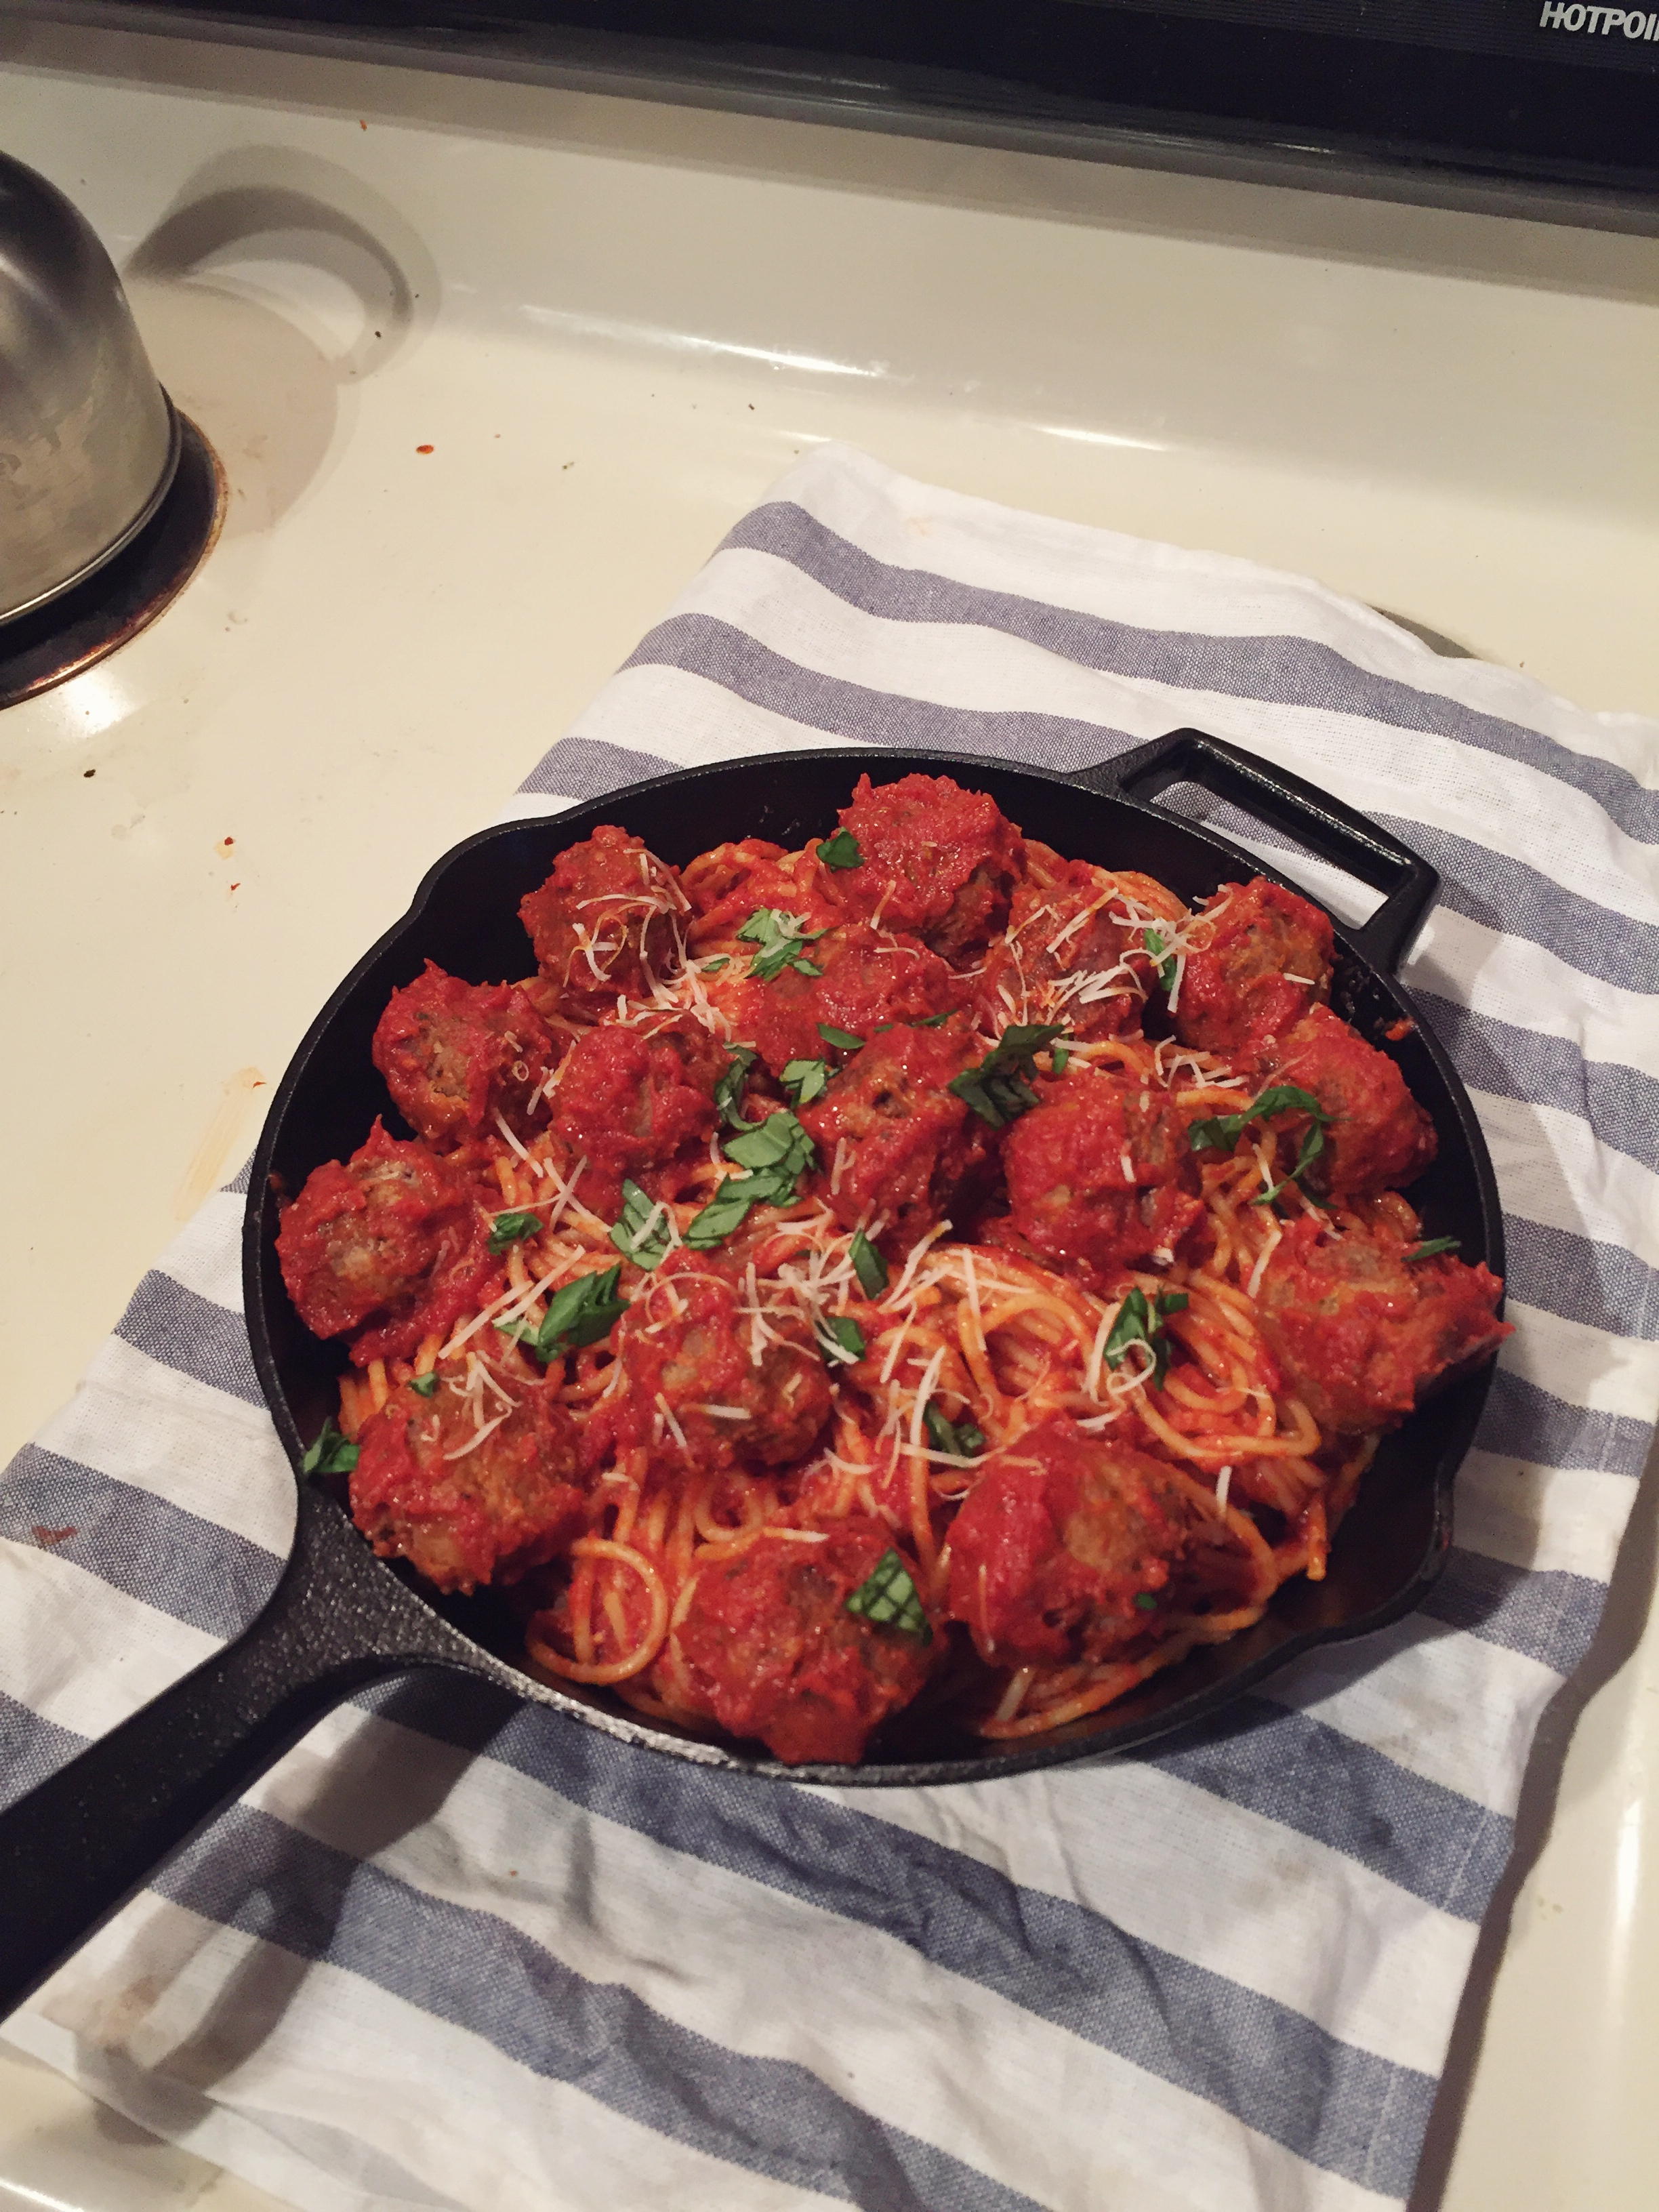meatballs: (390, 791, 1459, 1263), (809, 1231, 1272, 1479), (706, 1536, 978, 1763), (1229, 1217, 1474, 1458), (619, 1244, 854, 1456), (946, 1456, 1206, 1648), (366, 1369, 615, 1568), (261, 1134, 472, 1339)
